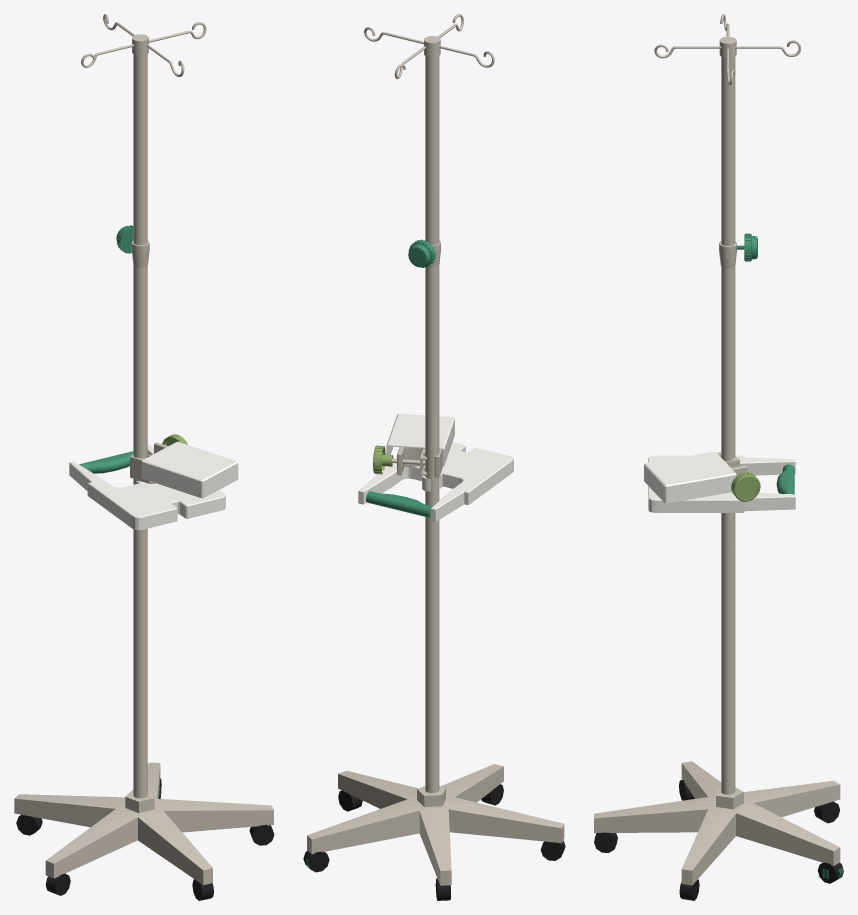
File: giatruyenthuoc.fbx
The picture shows the model from 3 angles, left to right: view 1: azimuth 30°, elevation 25°; view 2: azimuth 150°, elevation 25°; view 3: azimuth 270°, elevation 25°; orthographic projection.
Parts seen in each view (by area): view 1: giatruyennuoc; view 2: giatruyennuoc; view 3: giatruyennuoc.
Part boxes in pixels (x1,y1,x2,y2): giatruyennuoc: (14,14,274,900); giatruyennuoc: (303,14,565,900); giatruyennuoc: (594,14,843,900).
Size of the model in its own units: 20.31 by 69.84 by 19.54.
1 material, 1 textured.
